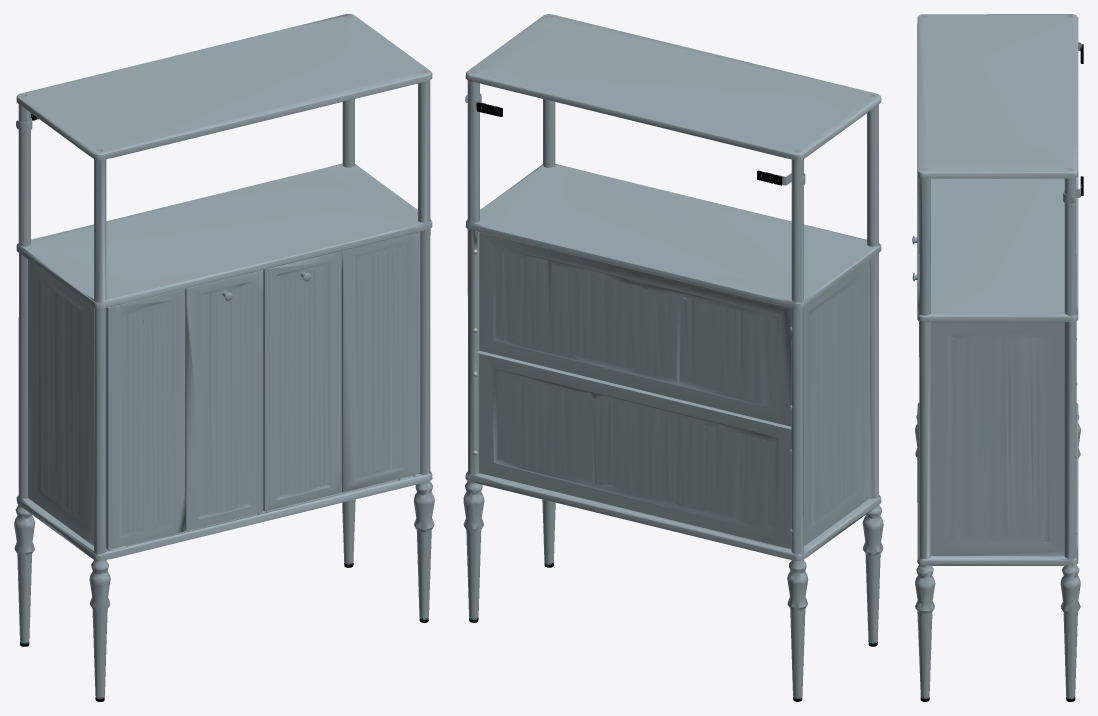
File: sagmastare_szafka_90555364.glb
3 renders of one model, left to right at view 1: azimuth 30°, elevation 25°; view 2: azimuth 150°, elevation 25°; view 3: azimuth 270°, elevation 25°, orthographic. The views are drawn at different scales.
Parts seen in each view (by area): view 1: sagmastare_szafka_90555364; view 2: sagmastare_szafka_90555364; view 3: sagmastare_szafka_90555364.
Boxes of the visible parts, bbox=[...] form: sagmastare_szafka_90555364: bbox=[14, 14, 434, 701]; sagmastare_szafka_90555364: bbox=[463, 14, 883, 701]; sagmastare_szafka_90555364: bbox=[912, 14, 1083, 701].
Bounding box in the file's own units: 0.831 × 1.28 × 0.3733.
Materials: 5 (5 with a texture image).
